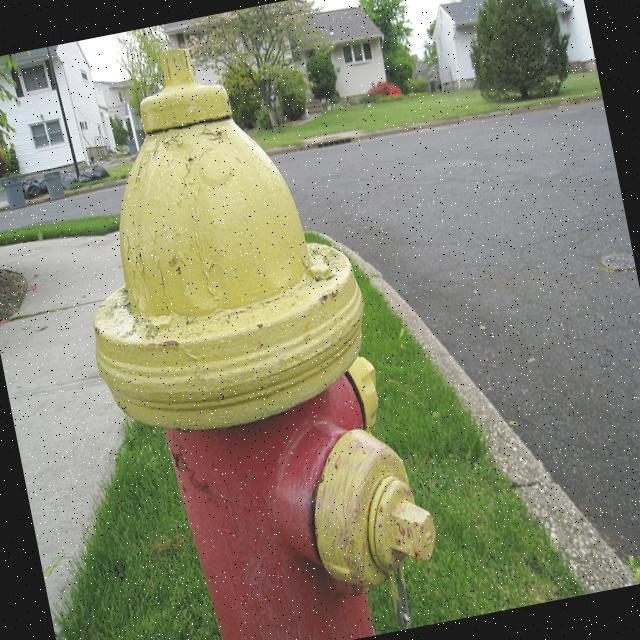fire_hydrant: (34, 18, 450, 640)
